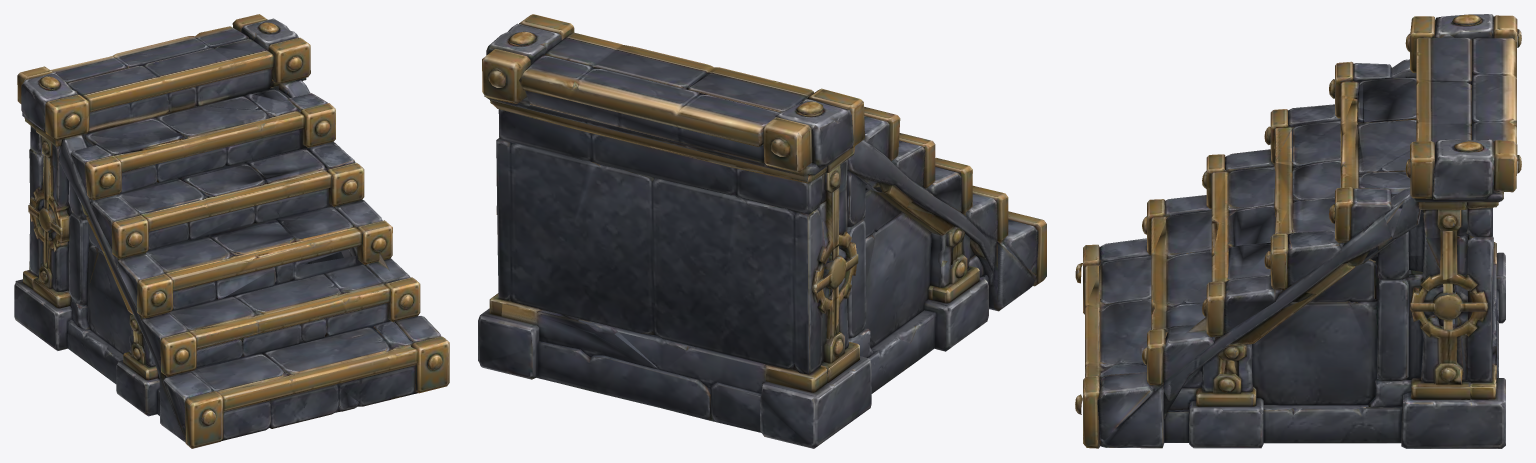
The model's file is tower_stairs.glb.
3 views of the same model, side by side, from view 1: azimuth 30°, elevation 25°; view 2: azimuth 150°, elevation 25°; view 3: azimuth 270°, elevation 25° (orthographic). The views are drawn at different scales.
Size of the model in its own units: 0.7574 by 0.6939 by 0.9482.
1 material, 1 textured.
